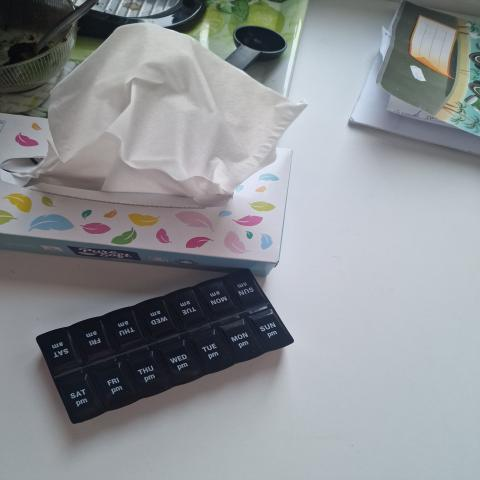Pill-box: (13, 257, 314, 436)
